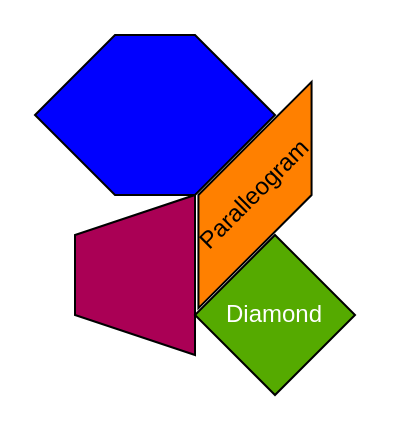
The diagram is 404 pixels wide and 430 high, and some of its shapes have lost their labels. Each missing label, with the box of its shape:
Hexagon: (33, 33, 275, 195)
Trapzoid: (73, 193, 195, 355)
